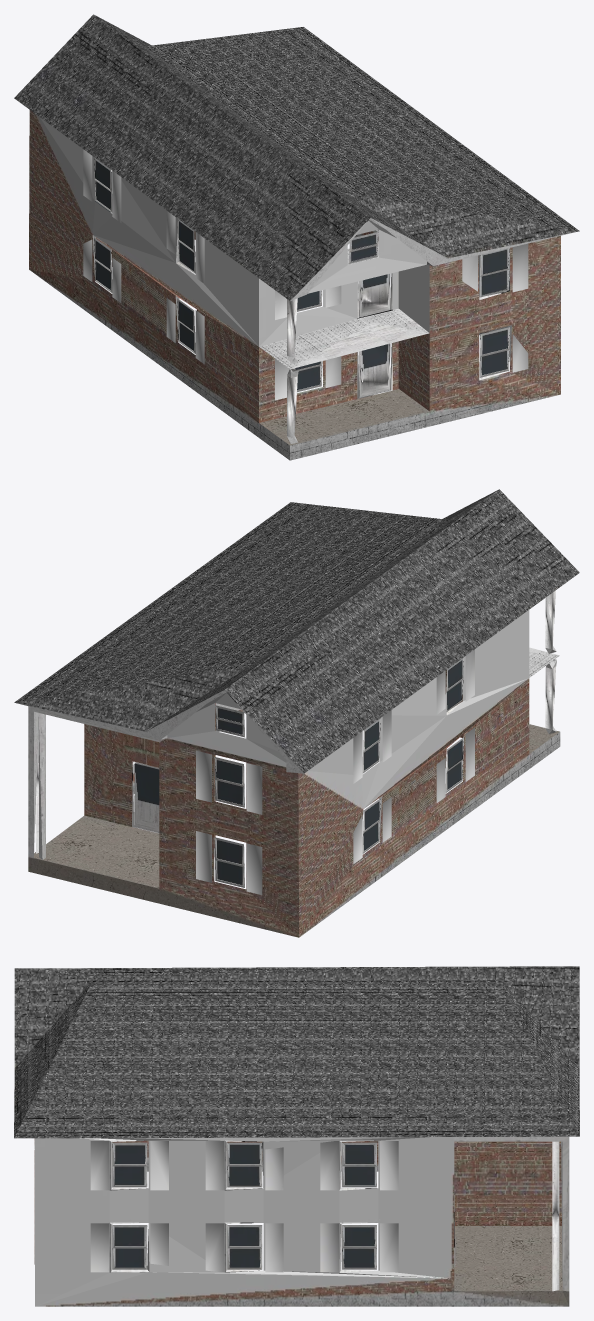
File: brick_duplex_lod1.glb
3 renders of one model, top to bottom at view 1: azimuth 30°, elevation 25°; view 2: azimuth 150°, elevation 25°; view 3: azimuth 270°, elevation 25°, orthographic. The views are drawn at different scales.
Visible parts, largest first — view 1: brick_duplex; view 2: brick_duplex; view 3: brick_duplex.
Boxes of the visible parts, x1=… form: brick_duplex: x1=14, y1=14, x2=579, y2=460; brick_duplex: x1=14, y1=489, x2=579, y2=937; brick_duplex: x1=14, y1=966, x2=579, y2=1306.
Size of the model in its own units: 10.26 by 7.94 by 16.96.
1 material, 1 textured.
